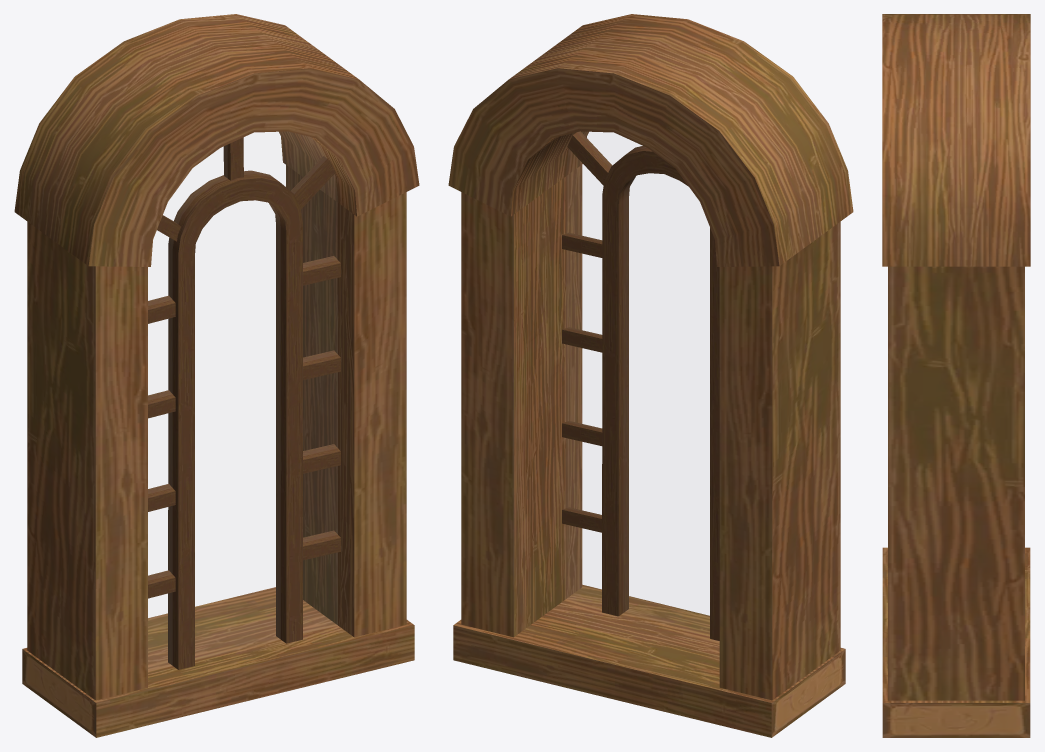
File: window_thin_round1.glb
The picture shows the model from 3 angles, left to right: view 1: azimuth 30°, elevation 25°; view 2: azimuth 150°, elevation 25°; view 3: azimuth 270°, elevation 25°; orthographic projection.
Bounding box in the file's own units: 0.8876 × 1.6 × 0.3444.
Materials: 2 (1 with a texture image).
